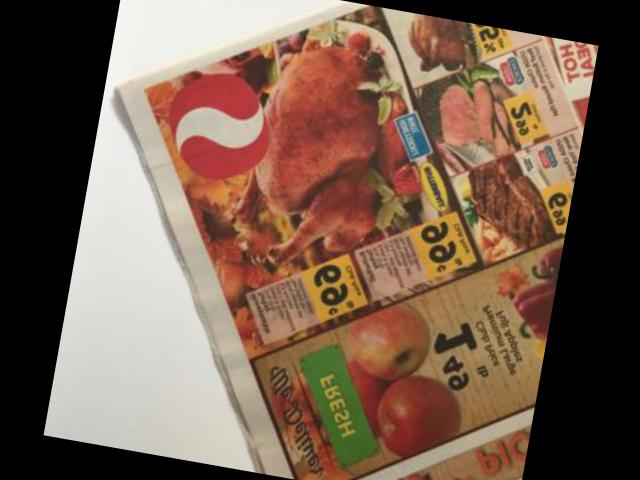cardboard paper: (112, 1, 598, 480)
